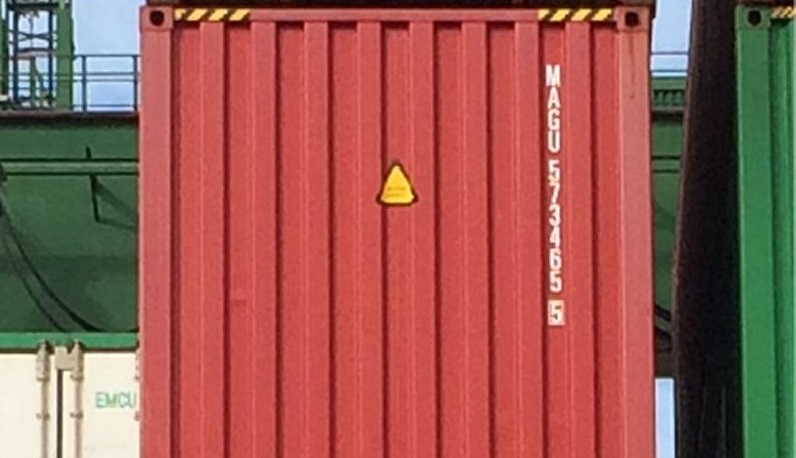container_no_door: (139, 7, 657, 454)
